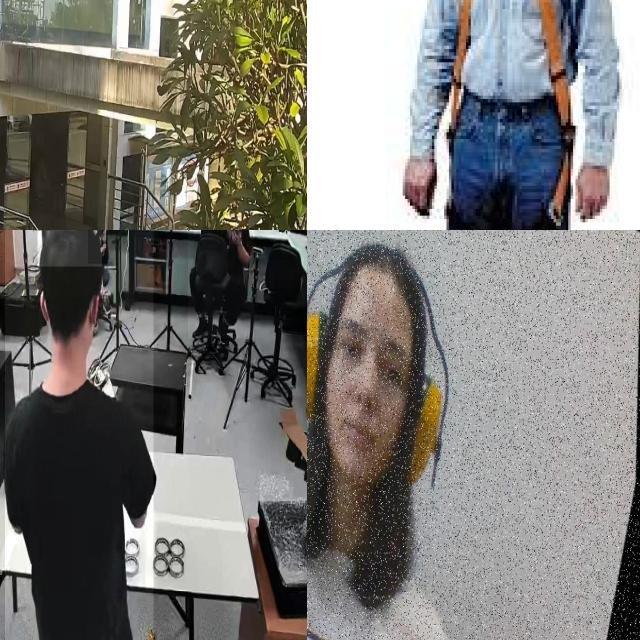Ear-protection: (307, 230, 474, 519)
Harness: (447, 0, 575, 230)
hand_noglove: (229, 230, 242, 245)
head_nohelmet: (37, 230, 102, 267)
person: (5, 230, 154, 640), (187, 230, 254, 339), (88, 230, 107, 263)
shoes: (189, 312, 211, 341)
